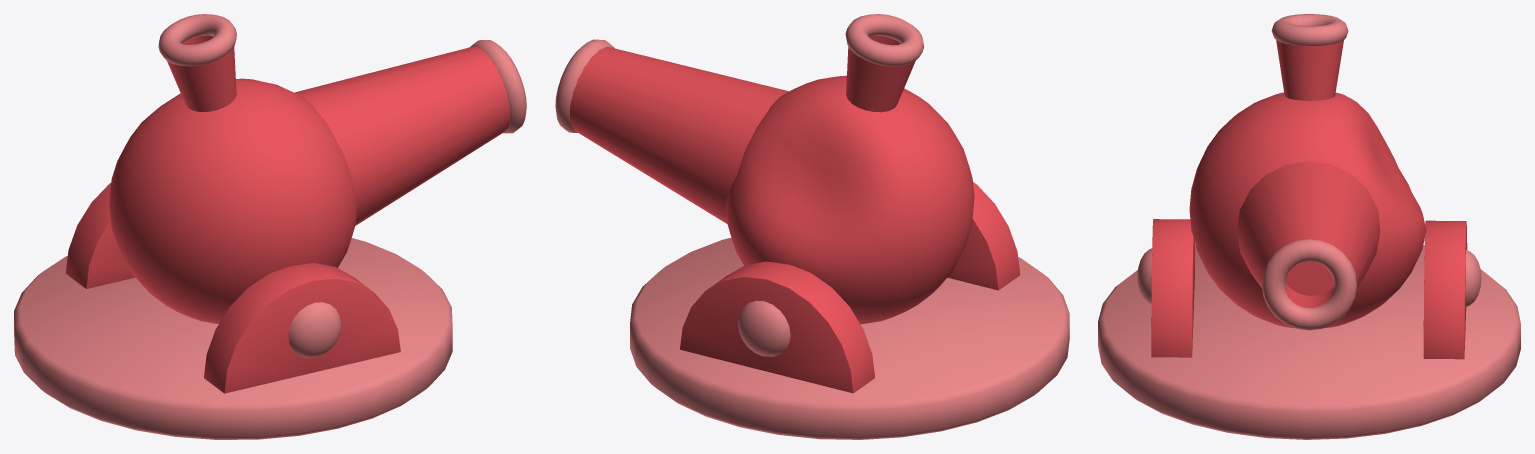
The model's file is PushkaVmyataya.fbx.
The picture shows the model from 3 angles, left to right: view 1: azimuth 30°, elevation 25°; view 2: azimuth 150°, elevation 25°; view 3: azimuth 270°, elevation 25°; orthographic projection. The views are drawn at different scales.
Visible parts, largest first — view 1: stvol.002, platforma.001, kolesa.001; view 2: stvol.002, platforma.001, kolesa.001; view 3: stvol.002, platforma.001, kolesa.001.
Boxes of the visible parts, left/top/right/bottom form: stvol.002: left=109, top=14, right=526, bottom=323; platforma.001: left=14, top=238, right=452, bottom=439; kolesa.001: left=65, top=183, right=400, bottom=393; stvol.002: left=555, top=14, right=974, bottom=324; platforma.001: left=630, top=237, right=1069, bottom=439; kolesa.001: left=680, top=182, right=1020, bottom=393; stvol.002: left=1189, top=14, right=1426, bottom=330; platforma.001: left=1098, top=245, right=1520, bottom=439; kolesa.001: left=1137, top=219, right=1481, bottom=359.
Bounding box in the file's own units: 346 × 235 × 281.
